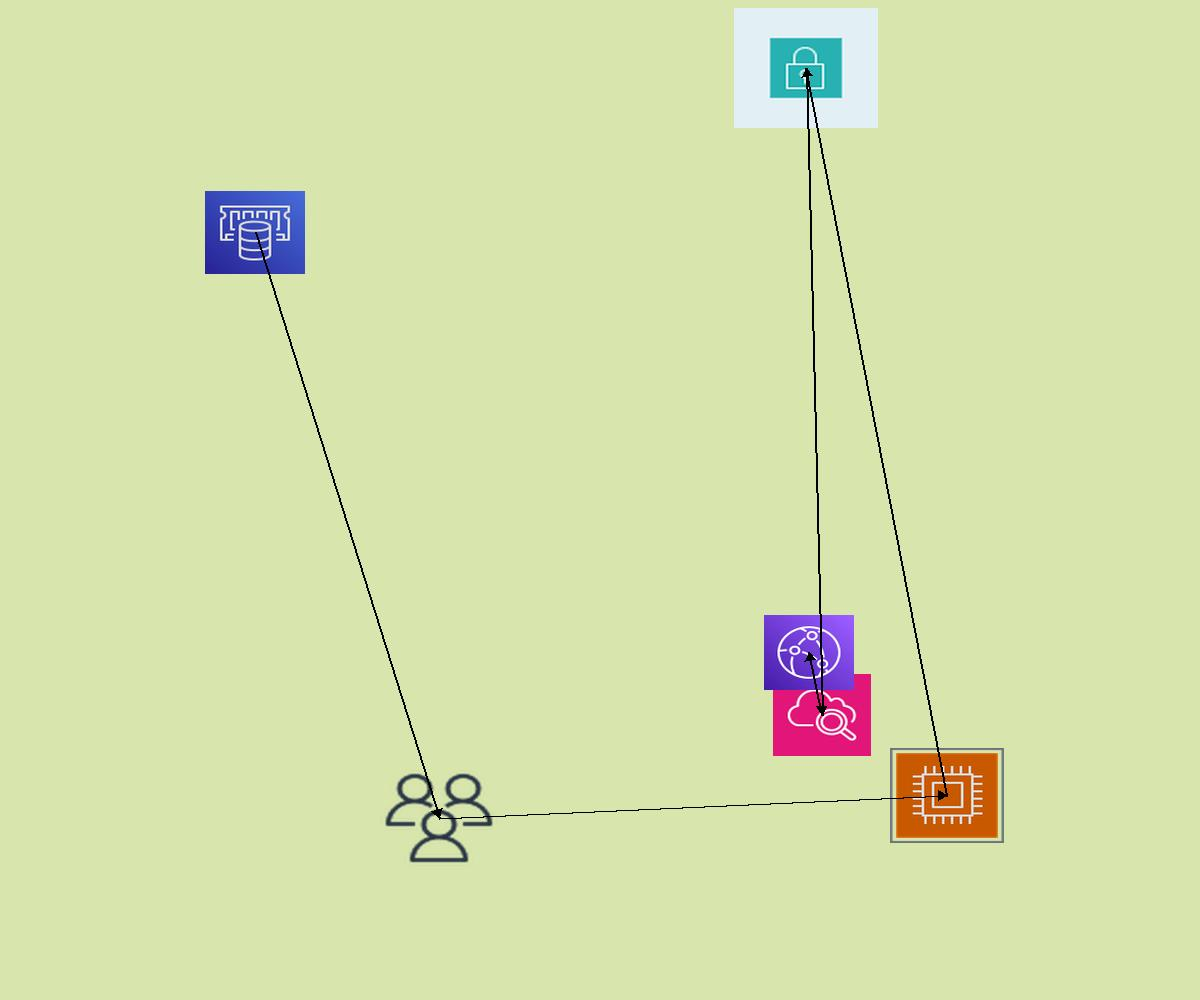AWS-Category_Compute: (890, 748, 1004, 843)
AWS-CloudFront: (764, 615, 854, 690)
AWS-CloudWatch: (773, 674, 871, 756)
AWS-ElastiCache: (205, 191, 305, 274)
AWS-Private-subnet: (734, 8, 878, 128)
AWS-Res_Users: (381, 770, 497, 866)
